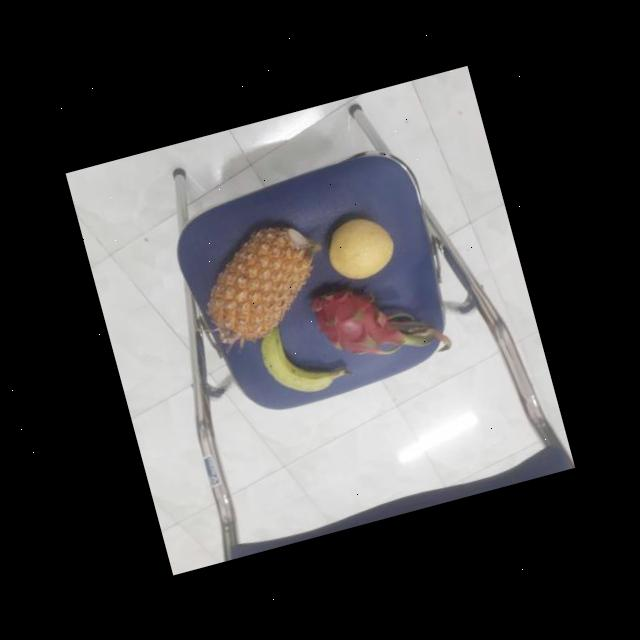banana: (249, 310, 345, 406)
pear: (316, 207, 400, 285)
pineapple: (186, 218, 330, 352)
pitaya: (303, 268, 411, 369)
